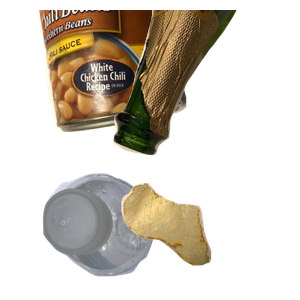glass: (111, 10, 300, 158)
metal: (34, 10, 213, 135)
plastic: (40, 170, 187, 300)
trash: (119, 181, 300, 300)
